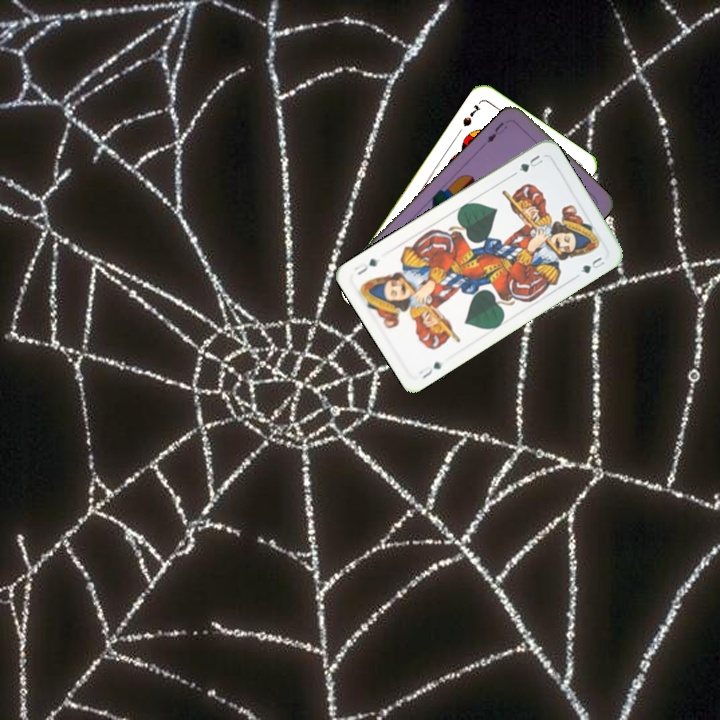EU: (483, 118, 510, 145)
GU: (415, 357, 446, 382), (515, 151, 546, 175)
S7: (458, 100, 483, 129)
